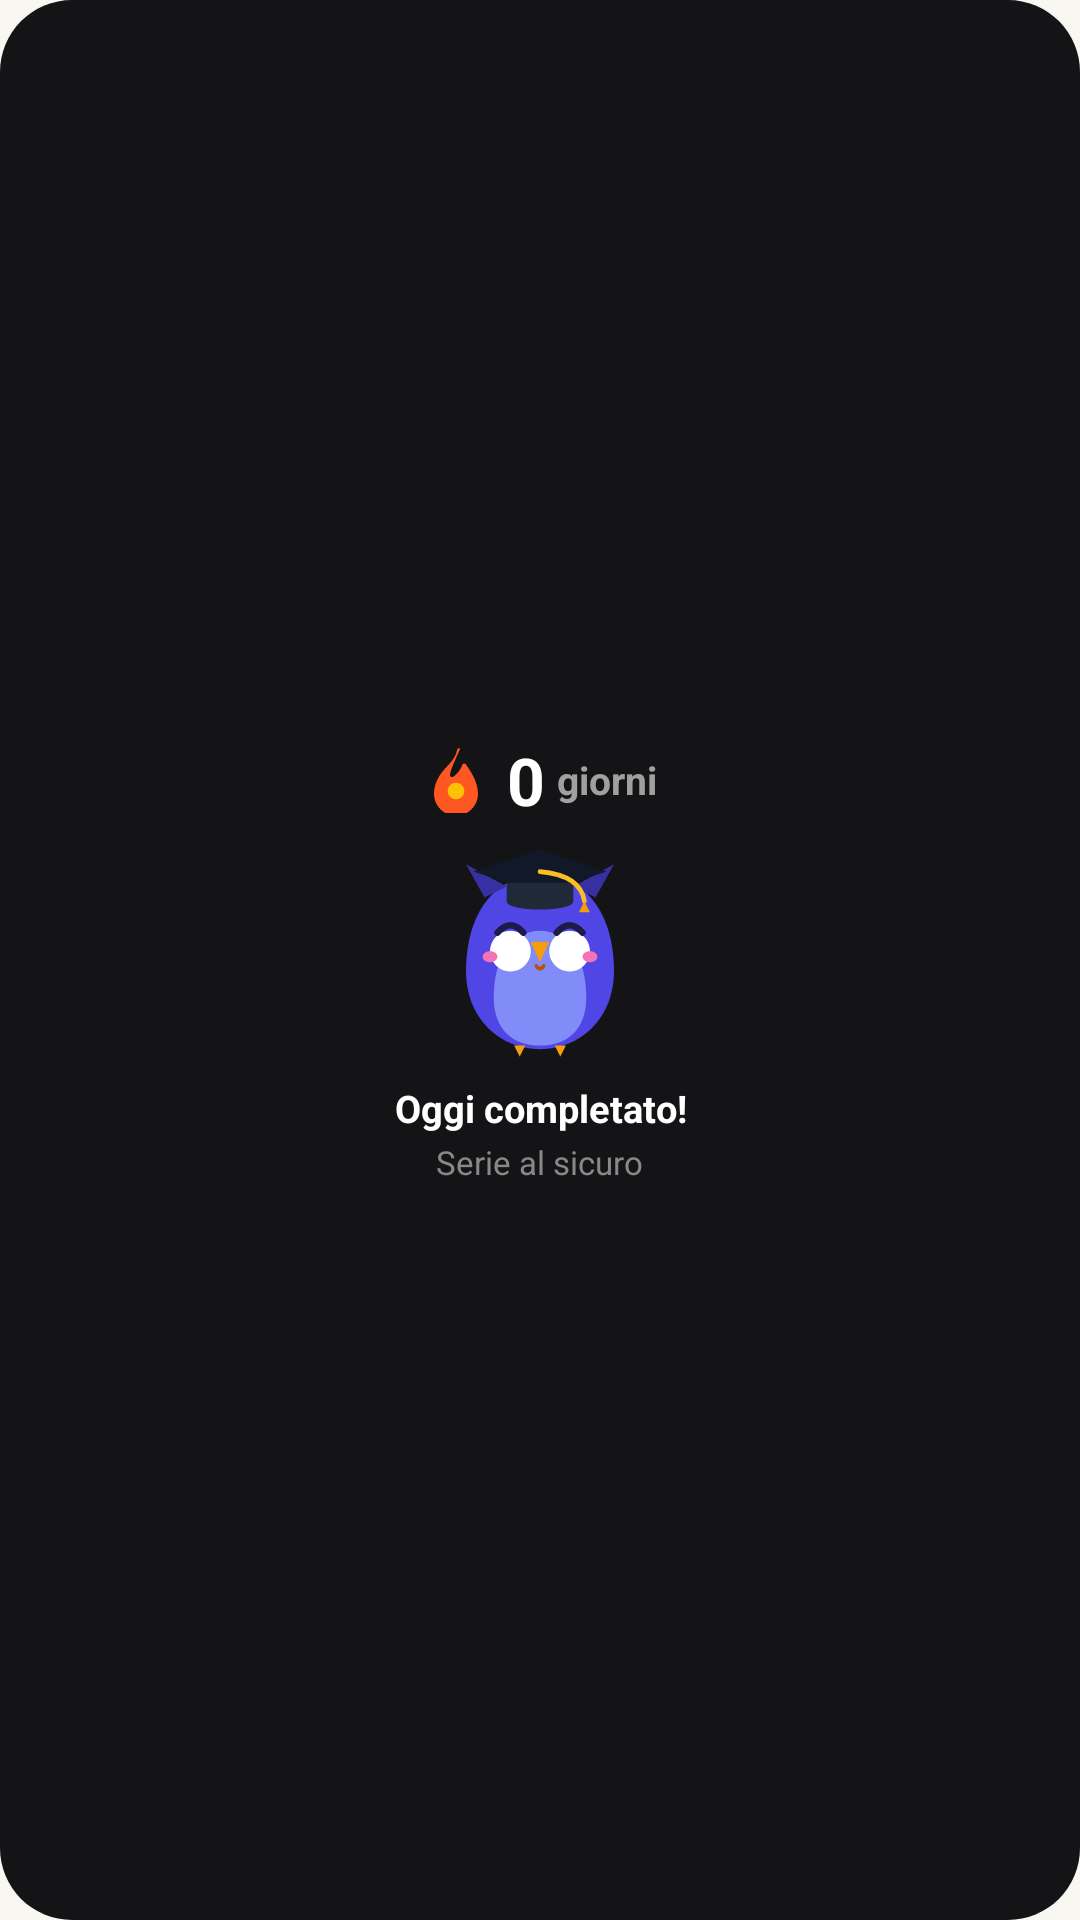

Icon click points for this 1080*1920 phone screenshot, format point (x, y):
Icona serie: point (456, 780)
Mascot studio: point (540, 960)
